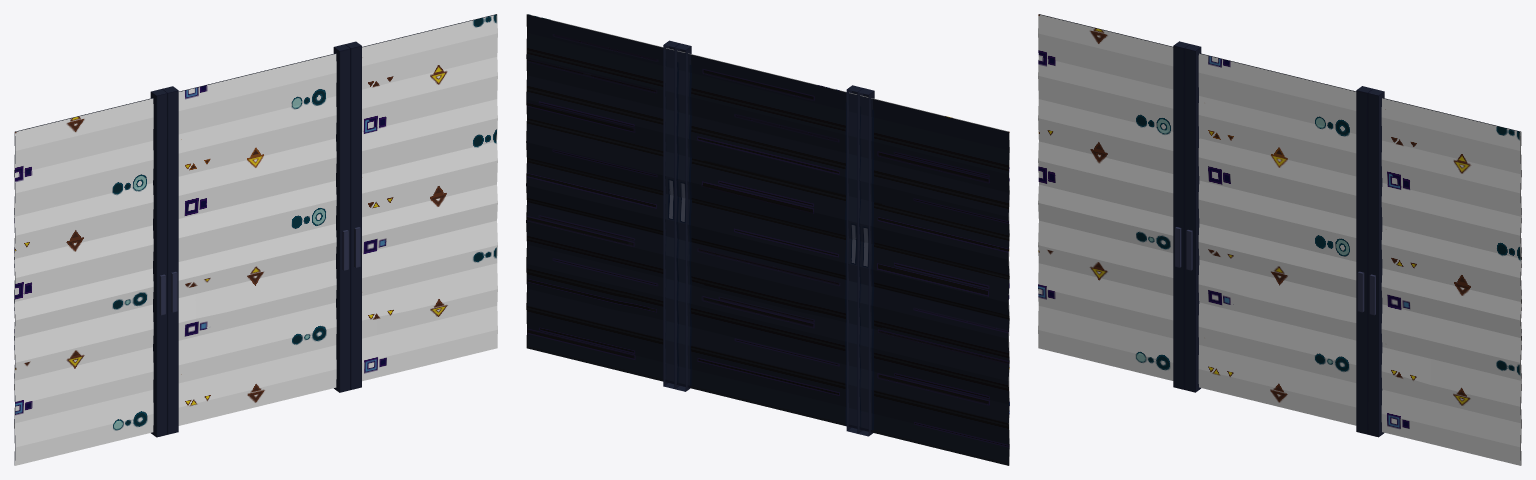
The model's file is Servidores.fbx.
3 views of the same model, side by side, from view 1: azimuth 30°, elevation 25°; view 2: azimuth 150°, elevation 25°; view 3: azimuth 330°, elevation 25° (orthographic).
Parts seen in each view (by area): view 1: luzes_2, pareda_2; view 2: pareda_2, luzes_2; view 3: luzes_2, pareda_2.
Boxes of the visible parts, x1,y1,x2,y2 form: luzes_2: [14, 14, 497, 465]; pareda_2: [14, 14, 496, 465]; pareda_2: [526, 14, 1009, 465]; luzes_2: [527, 14, 1009, 465]; luzes_2: [1038, 14, 1521, 465]; pareda_2: [1039, 14, 1521, 465].
Bounding box in the file's own units: 500 × 338 × 13.14.
Materials: 2 (2 with a texture image).
